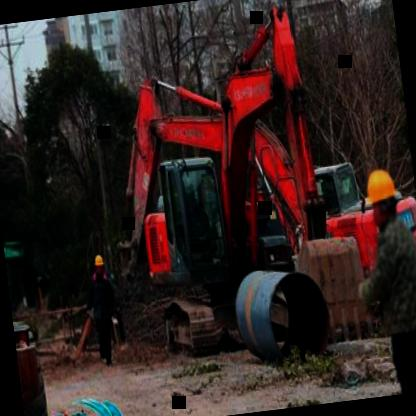helmet: (361, 166, 401, 230), (93, 250, 105, 278)
